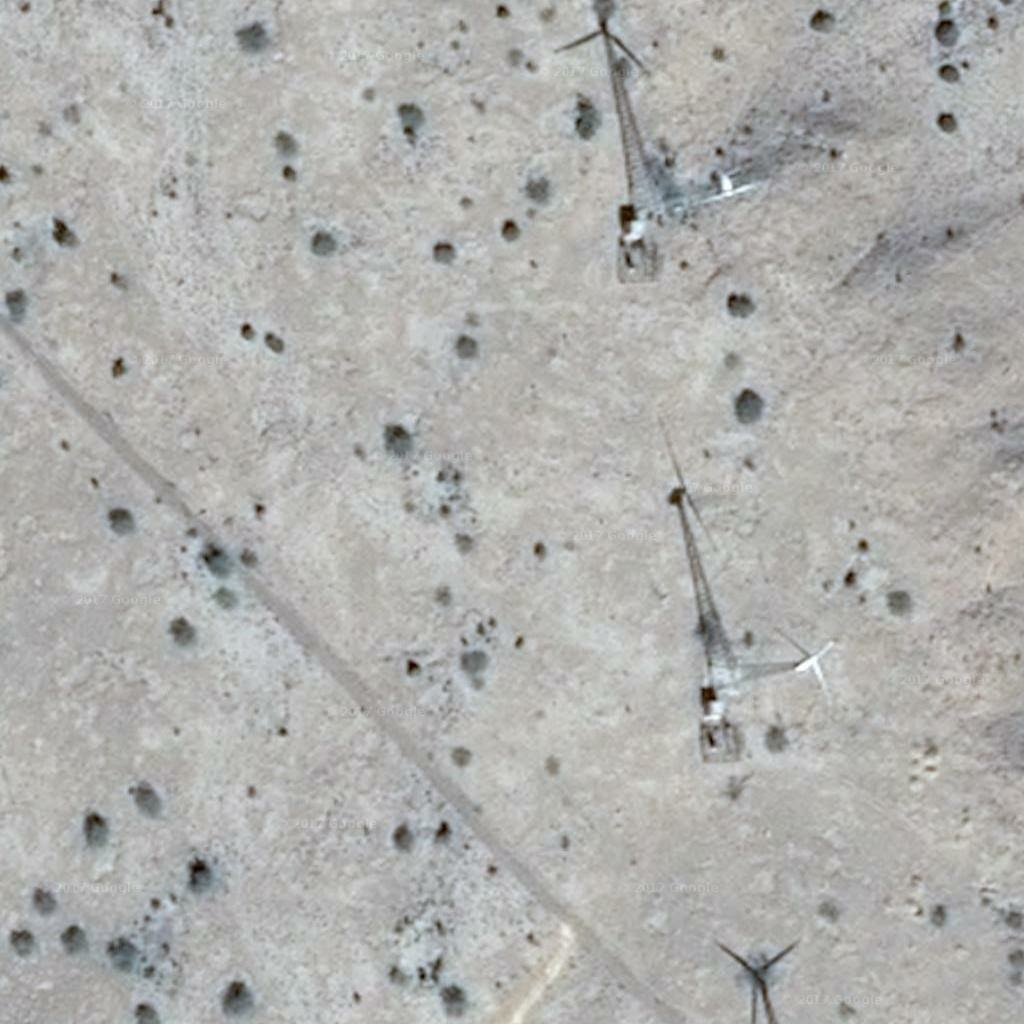Windmill: (634, 412, 740, 694)
